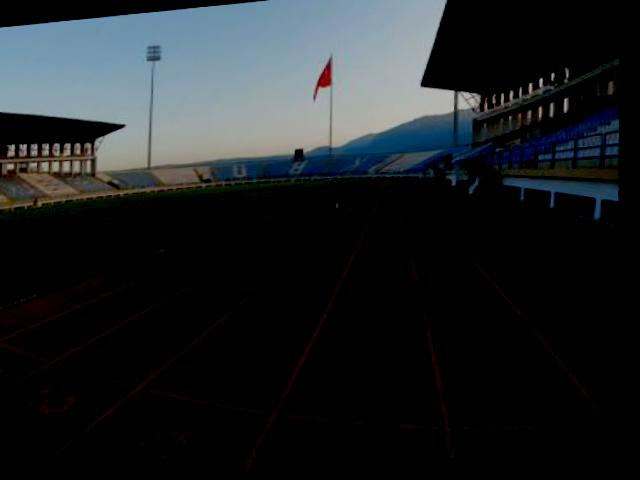uav: (319, 195, 364, 219)
